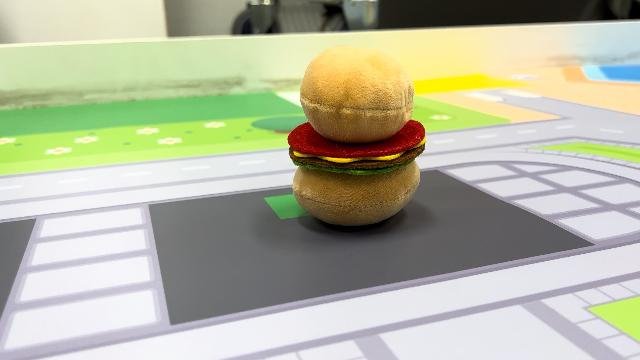burger: (284, 42, 430, 229)
